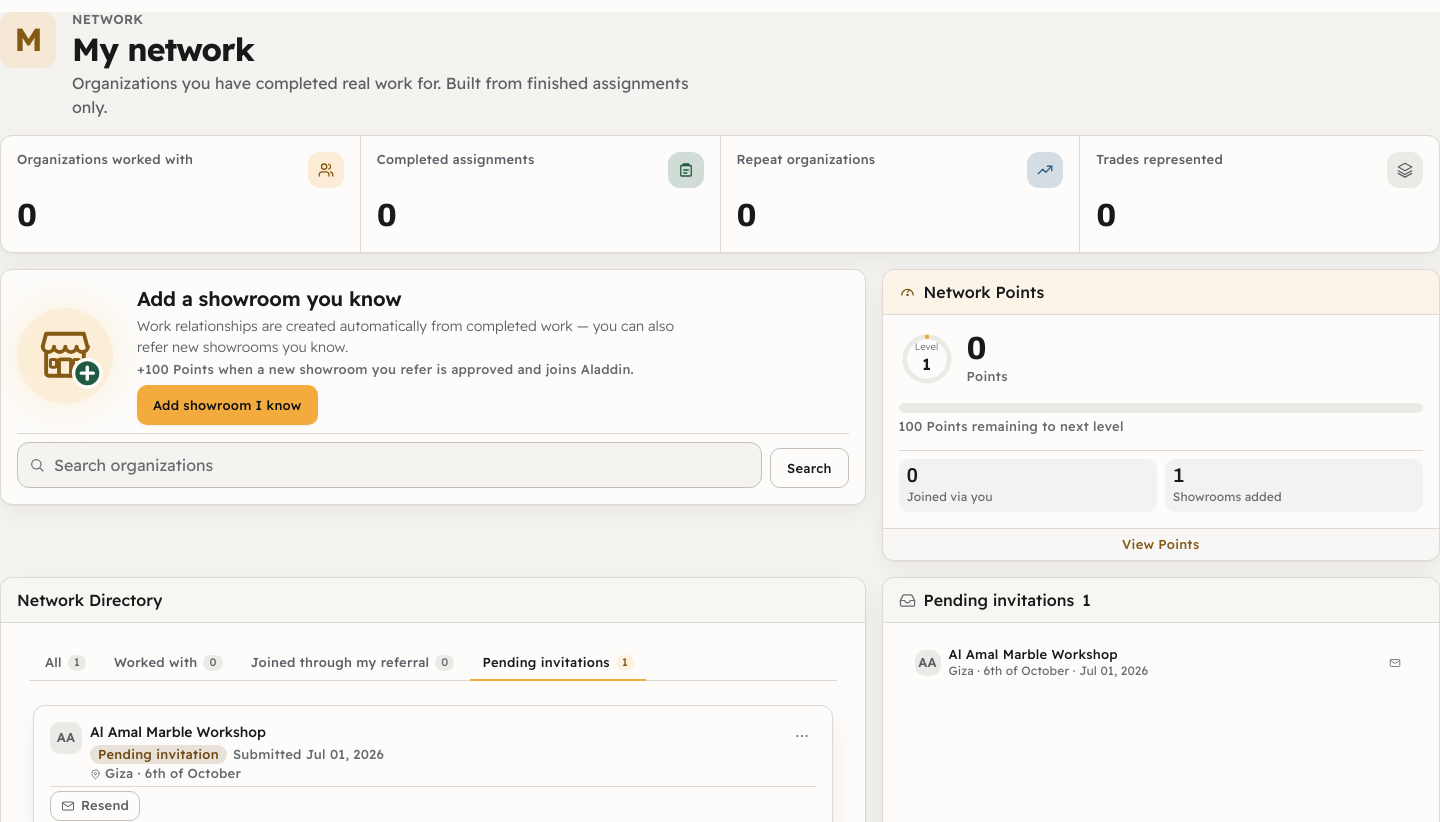
Test: NetworkPage — pending row overflow menu (revisit §8) › moves Withdraw into a compact overflow menu rather than the row body
Expected: the button "Withdraw" is not shown
Click the button named "More actions". click: (802, 736)
box: [788,722,816,750]
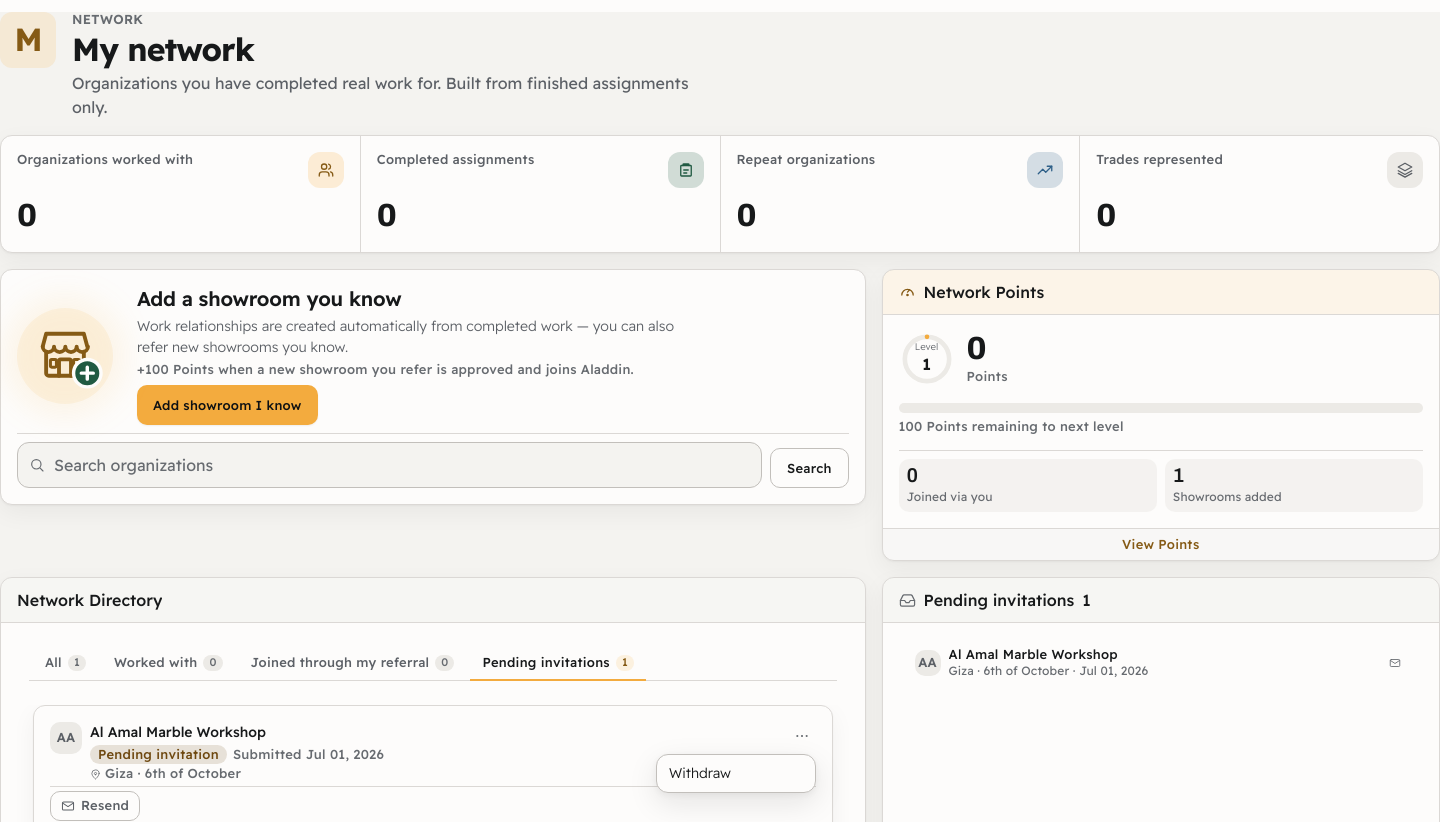
Expected: the menu item "Withdraw" is shown, [657,755,815,792]
